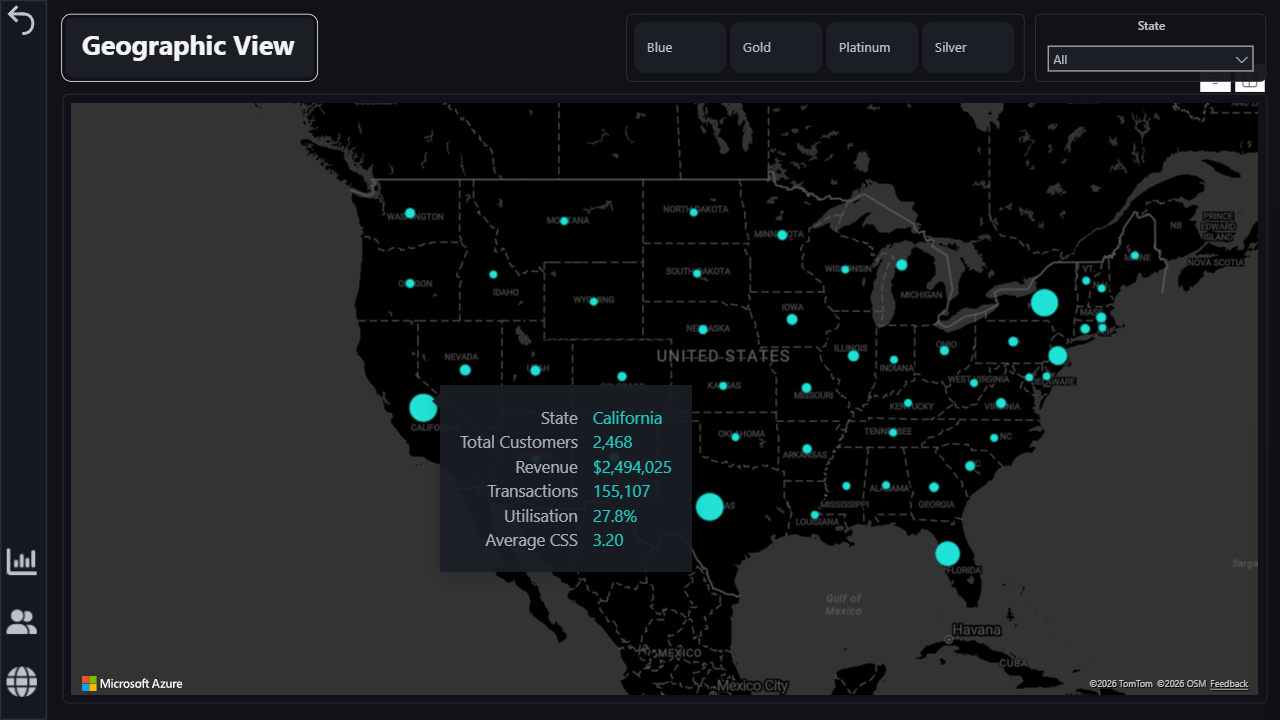

Layout of this report page (visuals, bound fields, positions):
{"tool":"powerbi","page":{"name":"Map","canvas":[1280,720],"ordinal":2},"visuals":[{"type":"map","fields":{"Category":["StateDim.StateName"],"Size":["Measures Table.Total Customers"]},"box":[62.5,12.5,1203.8,690],"z":0},{"type":"shape","box":[0,0,47.1,720],"z":1000},{"type":"slicer","title":"State","fields":{"Values":["StateDim.StateName"]},"box":[81.2,32.5,192.5,71.2],"z":2000},{"type":"actionButton","box":[2.5,542.6,44.8,38.6],"z":2001},{"type":"actionButton","box":[2.5,602.4,44.8,38.6],"z":2002},{"type":"actionButton","box":[2.5,662.1,44.8,38.6],"z":2003}]}

Visuals, with their boxes on the page's 1280x720 design canvas (x1, y1, x2, y2). These are canvas units, not pixel positions in the 1280x720 screenshot, which may show the page scaled, cropped or inside an application window:
map - StateDim.StateName x Measures Table.Total Customers: bbox=(62, 12, 1266, 702)
shape: bbox=(0, 0, 47, 720)
"State" slicer: bbox=(81, 32, 274, 104)
actionButton: bbox=(2, 543, 47, 581)
actionButton: bbox=(2, 602, 47, 641)
actionButton: bbox=(2, 662, 47, 701)
